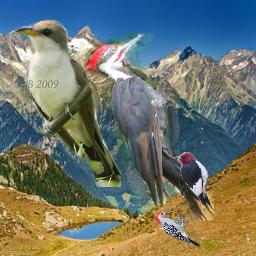Cuckoo: (15, 18, 121, 187)
Woodpecker: (85, 33, 214, 221), (173, 152, 210, 206), (155, 211, 200, 248)
